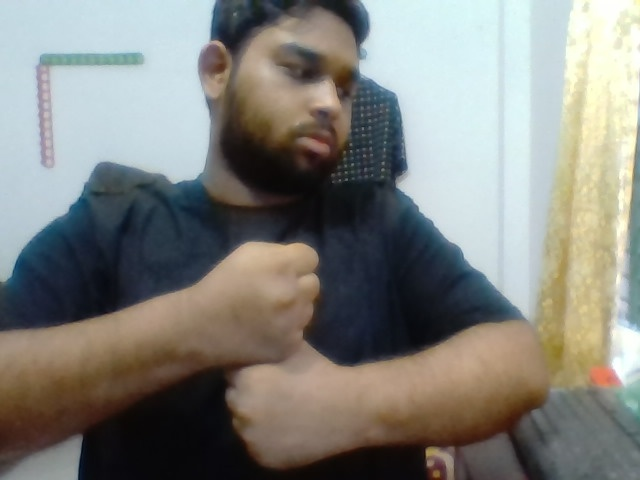G: (205, 229, 365, 476)
